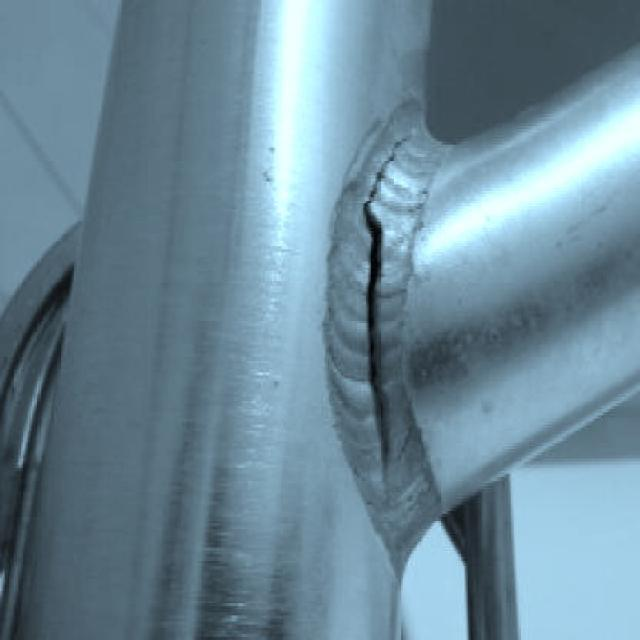crack: (364, 217, 392, 471), (366, 138, 408, 209)
